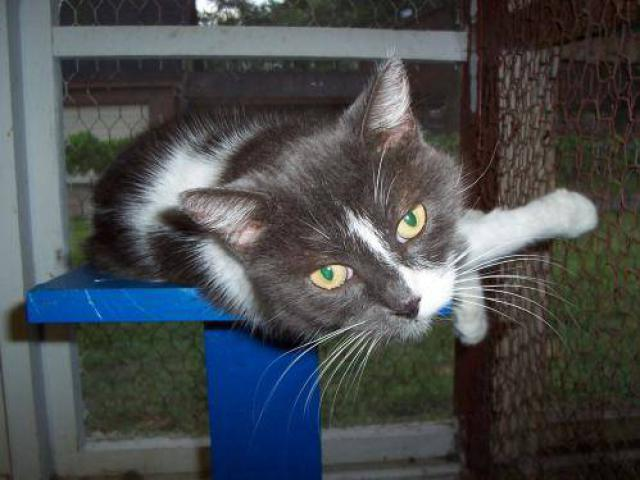cat: (92, 57, 591, 373)
